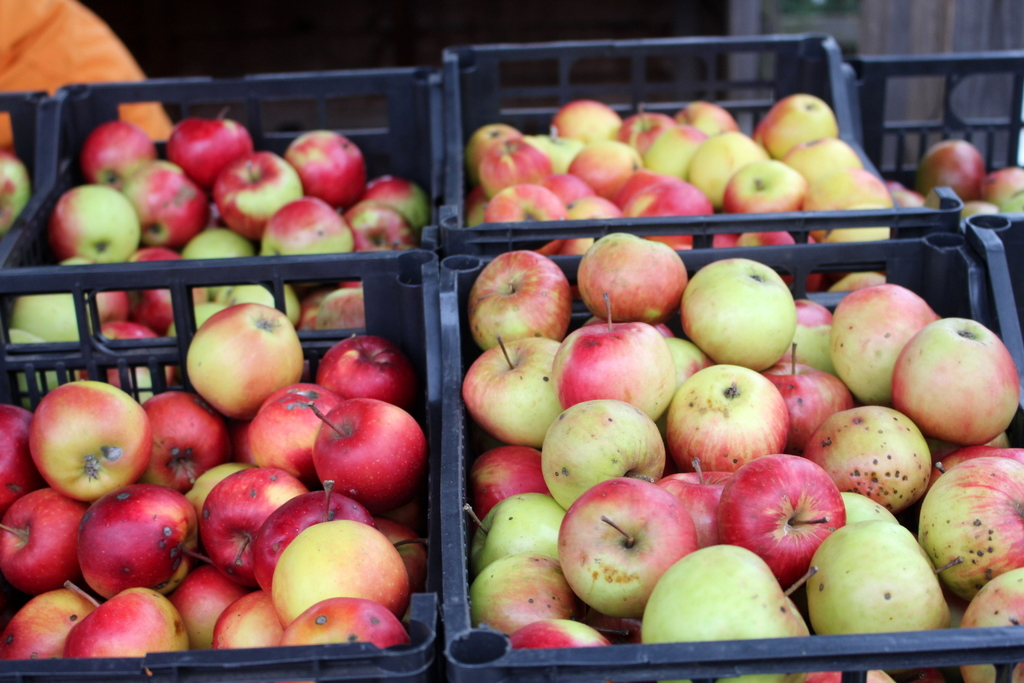Apple: (457, 229, 1023, 682), (0, 303, 424, 659), (8, 120, 427, 406), (466, 99, 893, 292), (553, 476, 698, 618), (915, 141, 986, 194), (0, 156, 30, 231), (977, 166, 1023, 214), (960, 199, 997, 220)
